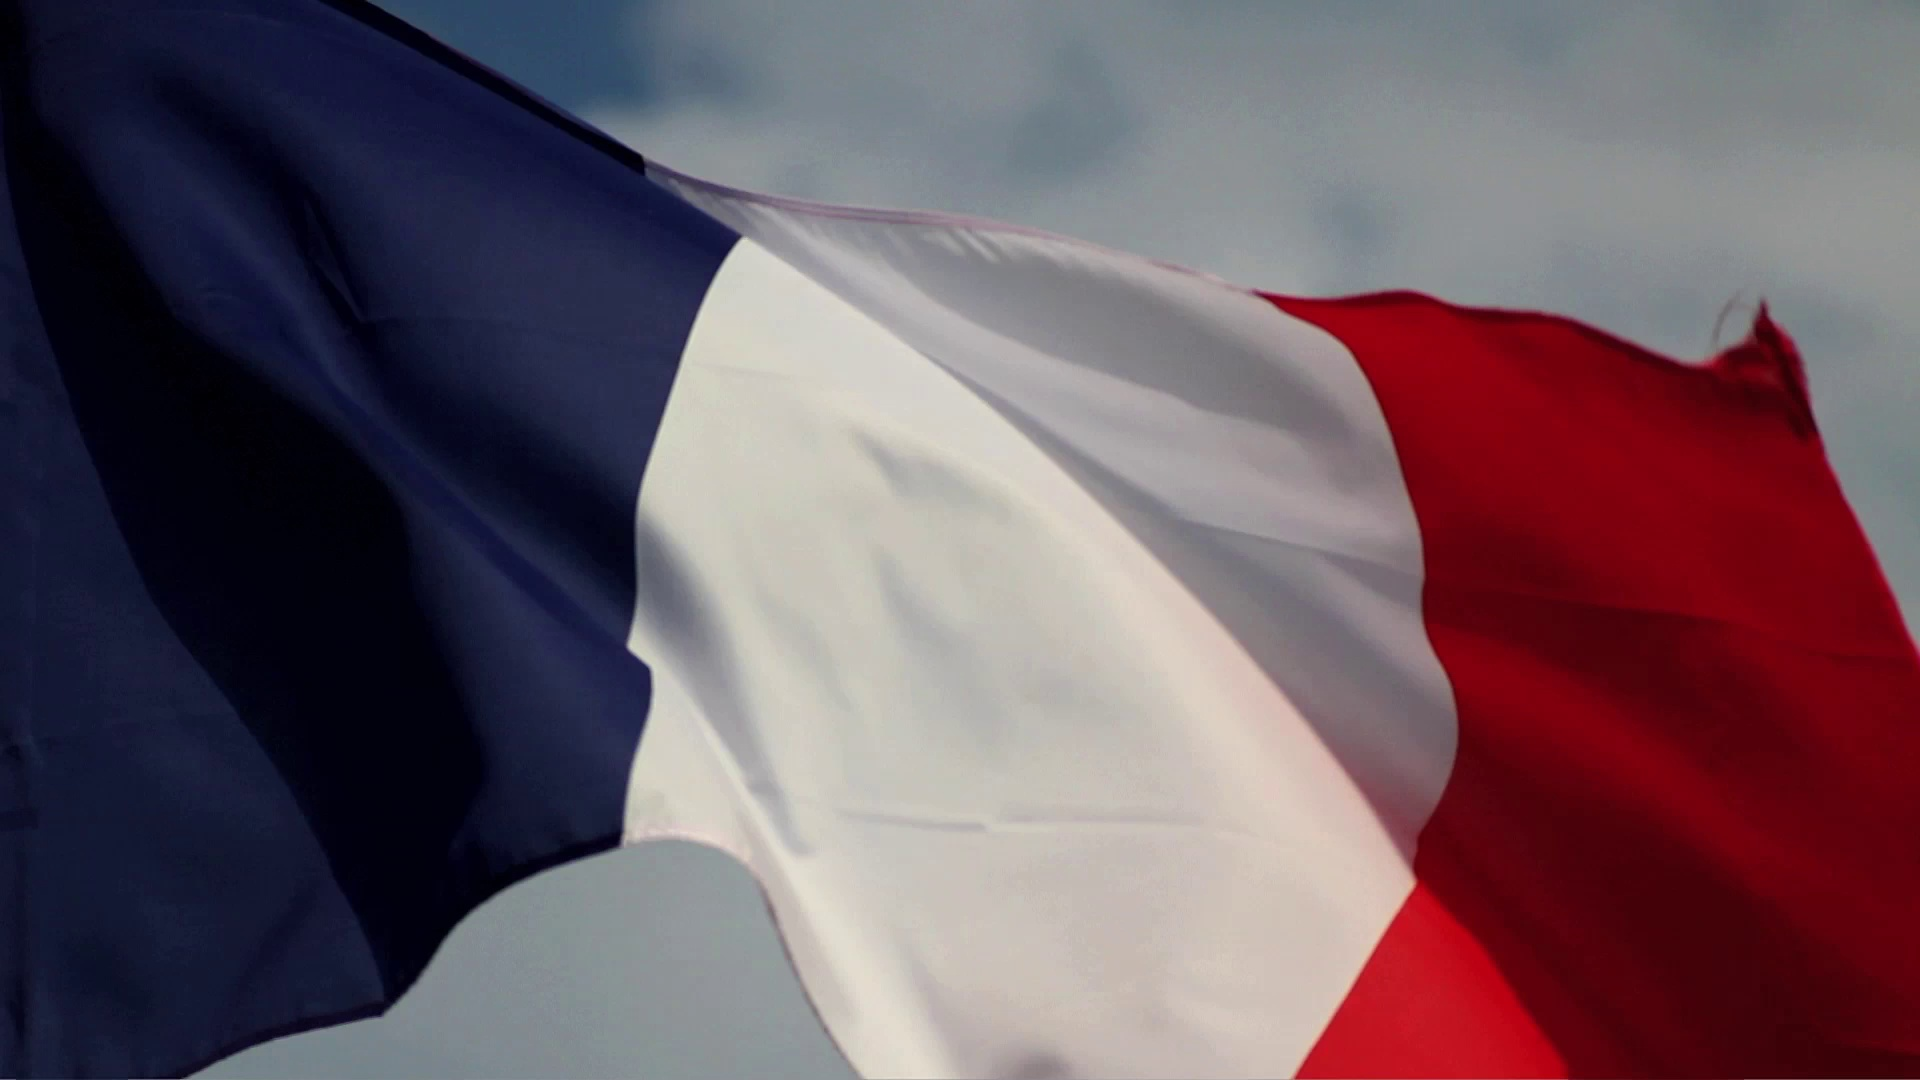French Flag: (1, 1, 1920, 1077)
